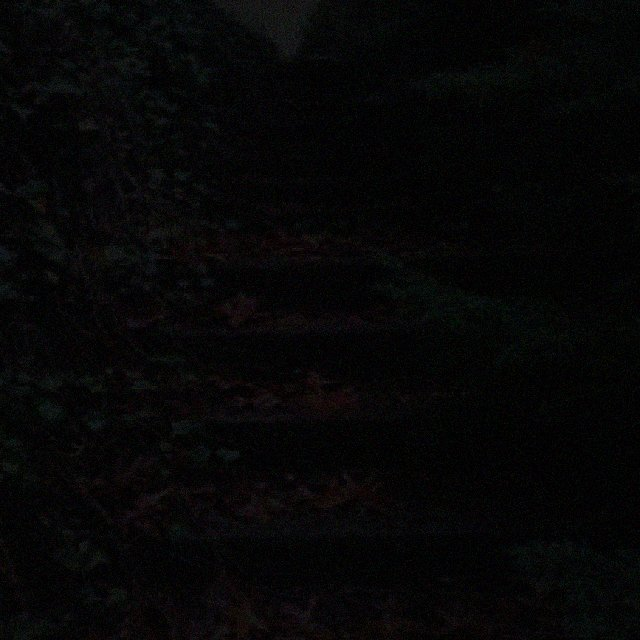stair: (166, 59, 639, 490)
